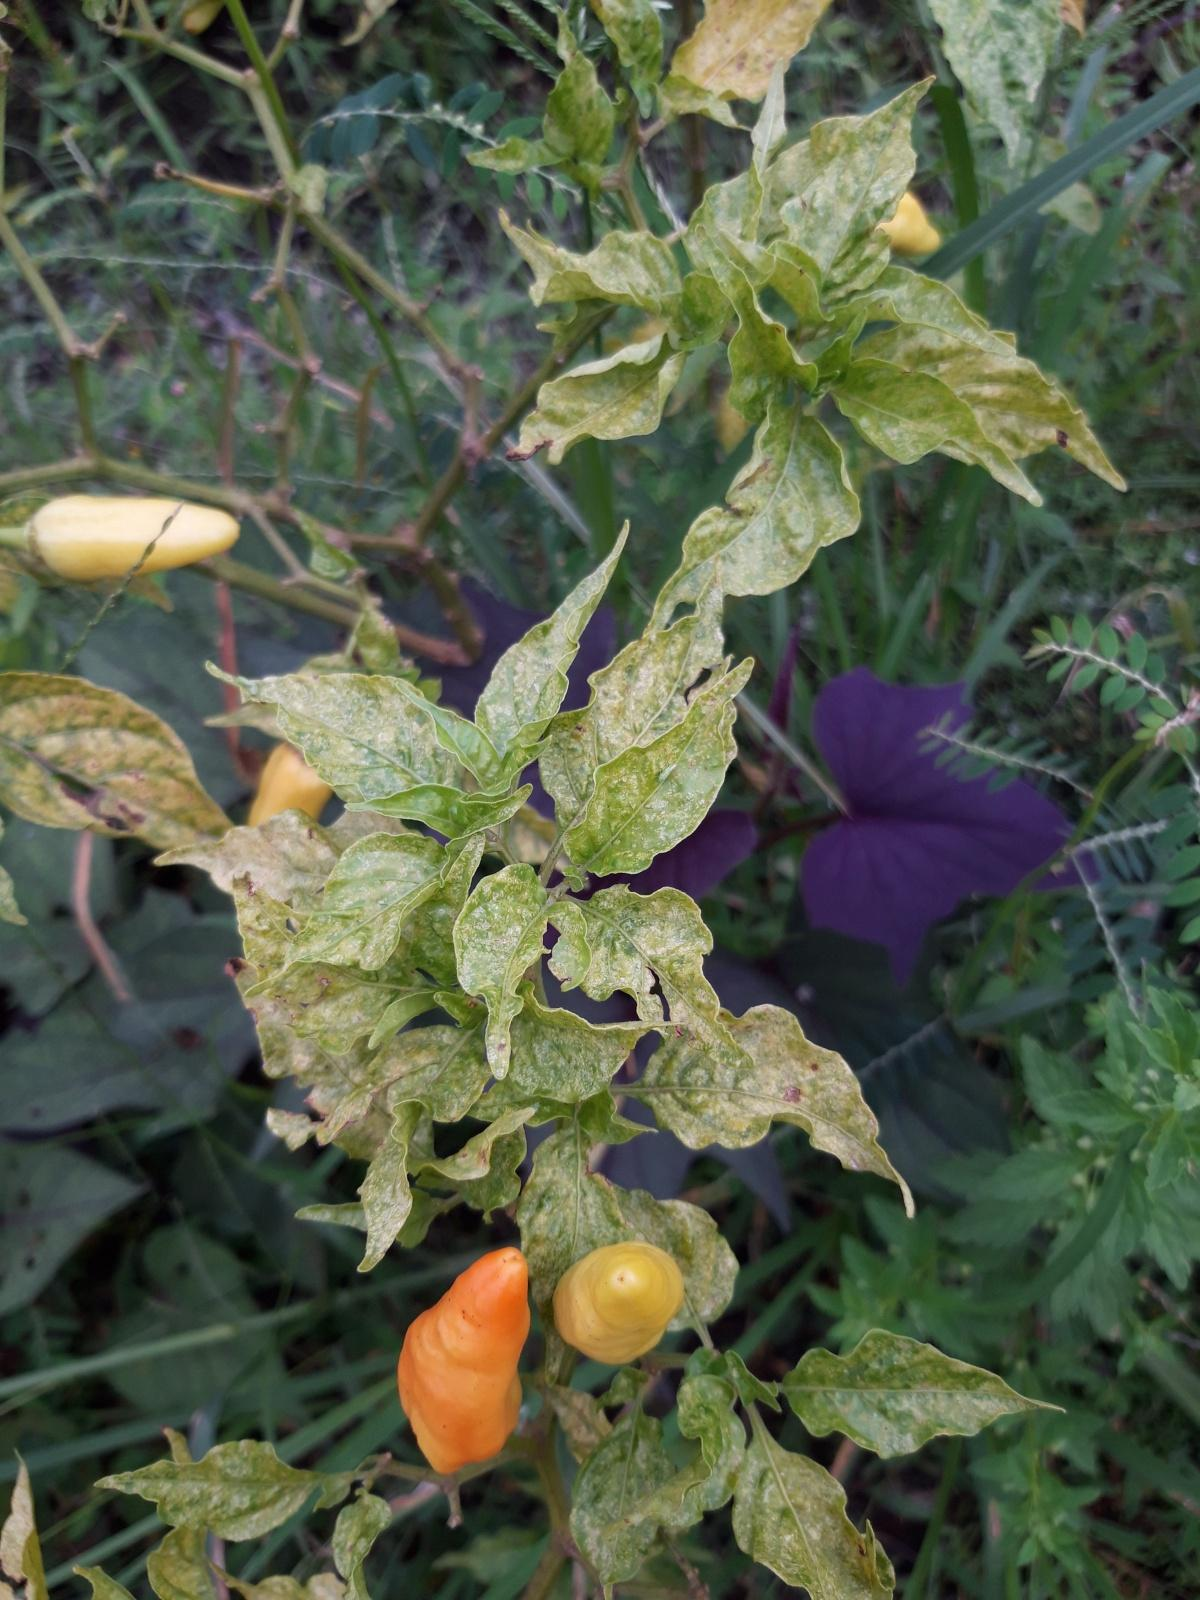cabai_normal: (397, 1247, 532, 1477), (26, 495, 241, 582), (550, 1241, 684, 1364), (247, 745, 334, 829), (879, 193, 939, 252)
